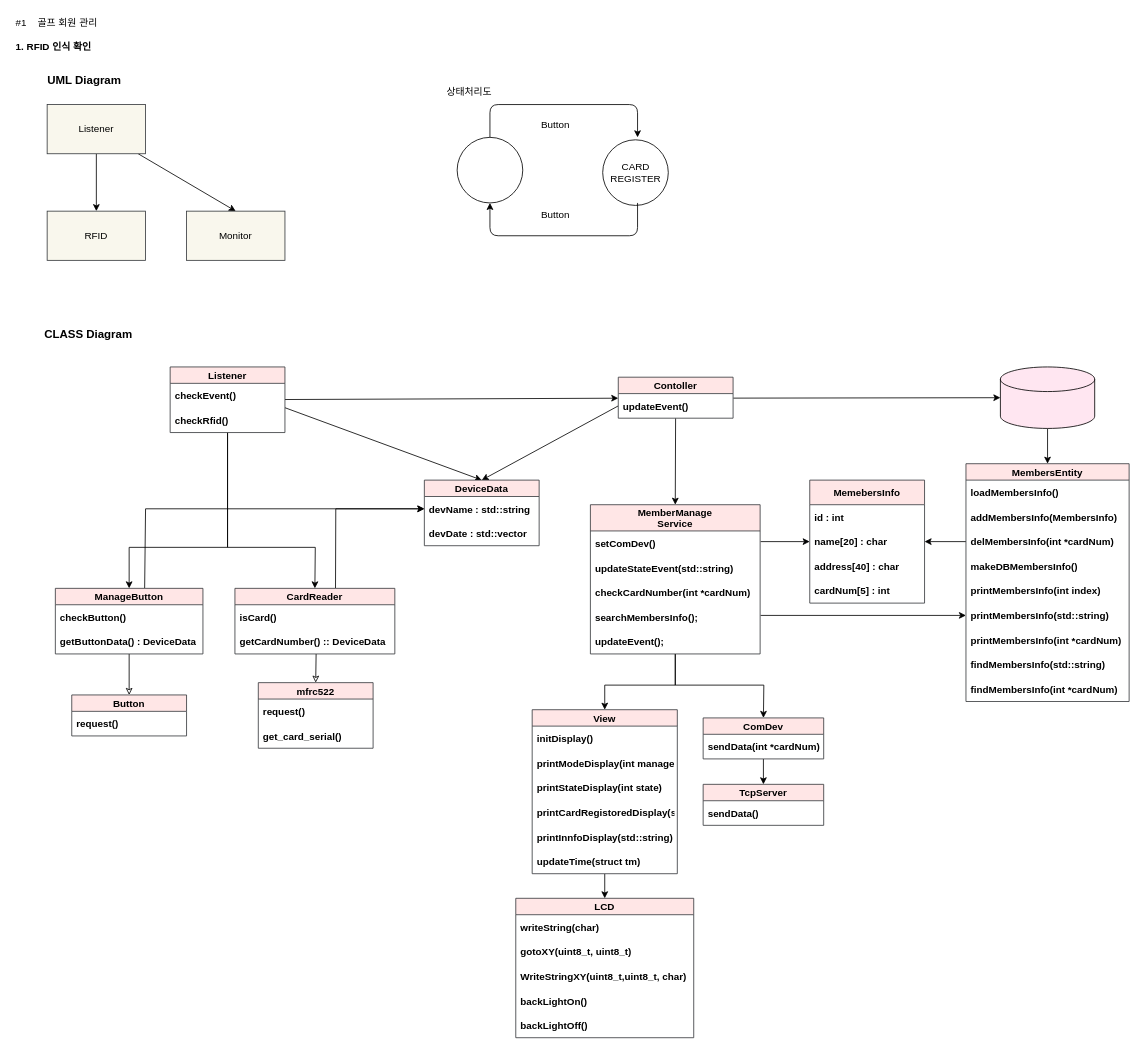
Image size: 1143x1052. Some labels were removed from this diagram. The shapes that lost their labels are listed below. From the top down, each one's centre as x and y in pixels, then its label:
At pixel 489 170: "CARD READER".
At pixel 1047 397: "DataBase memberList.bin".
